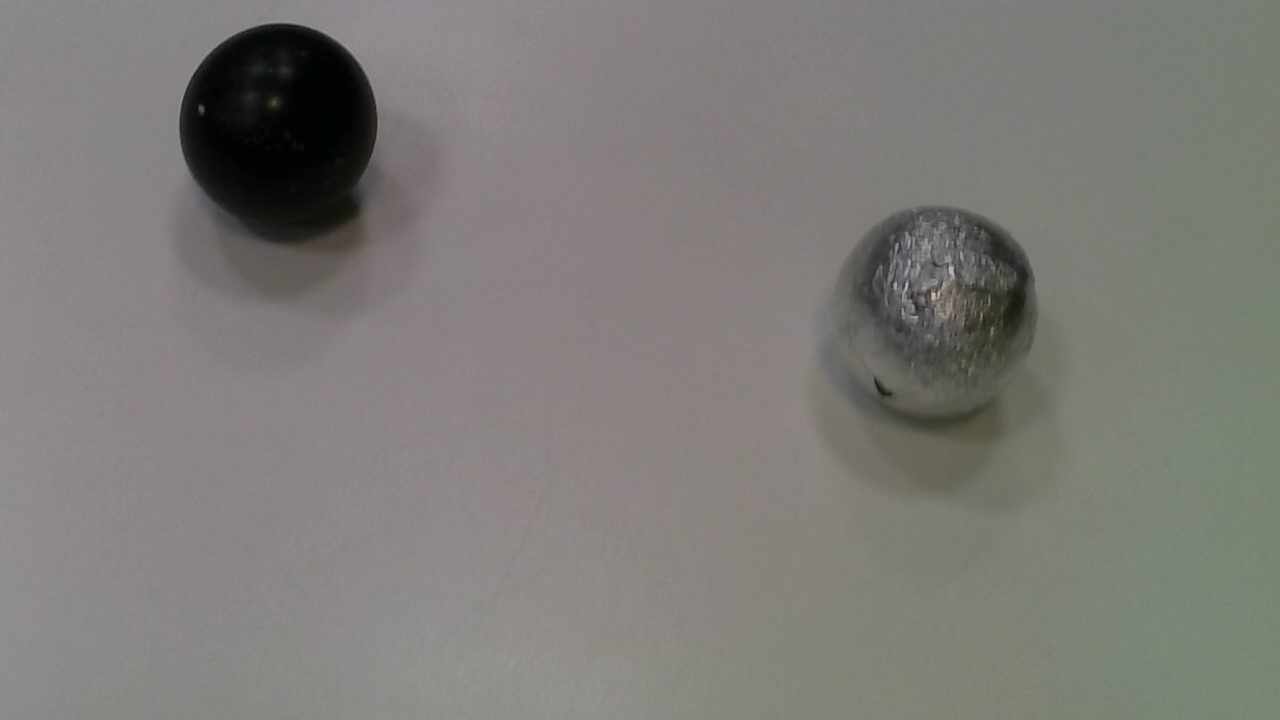black_ball: (172, 18, 382, 232)
silver_ball: (829, 206, 1039, 424)
